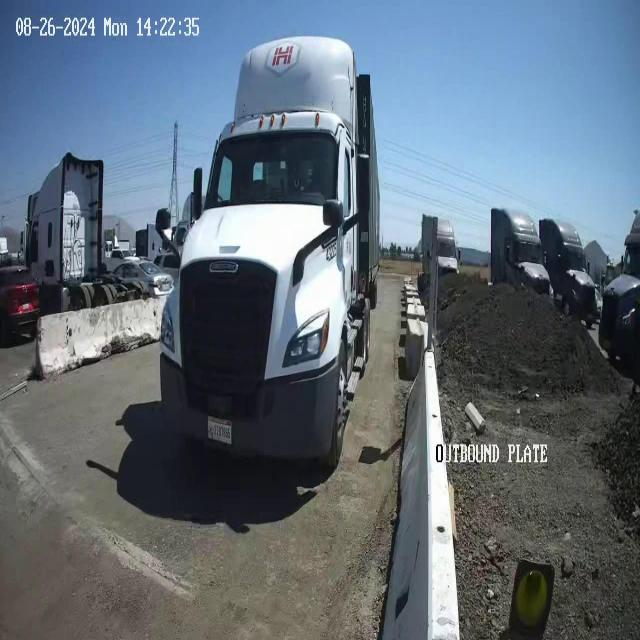TRUCK_CONTAINER: (156, 34, 380, 472)
